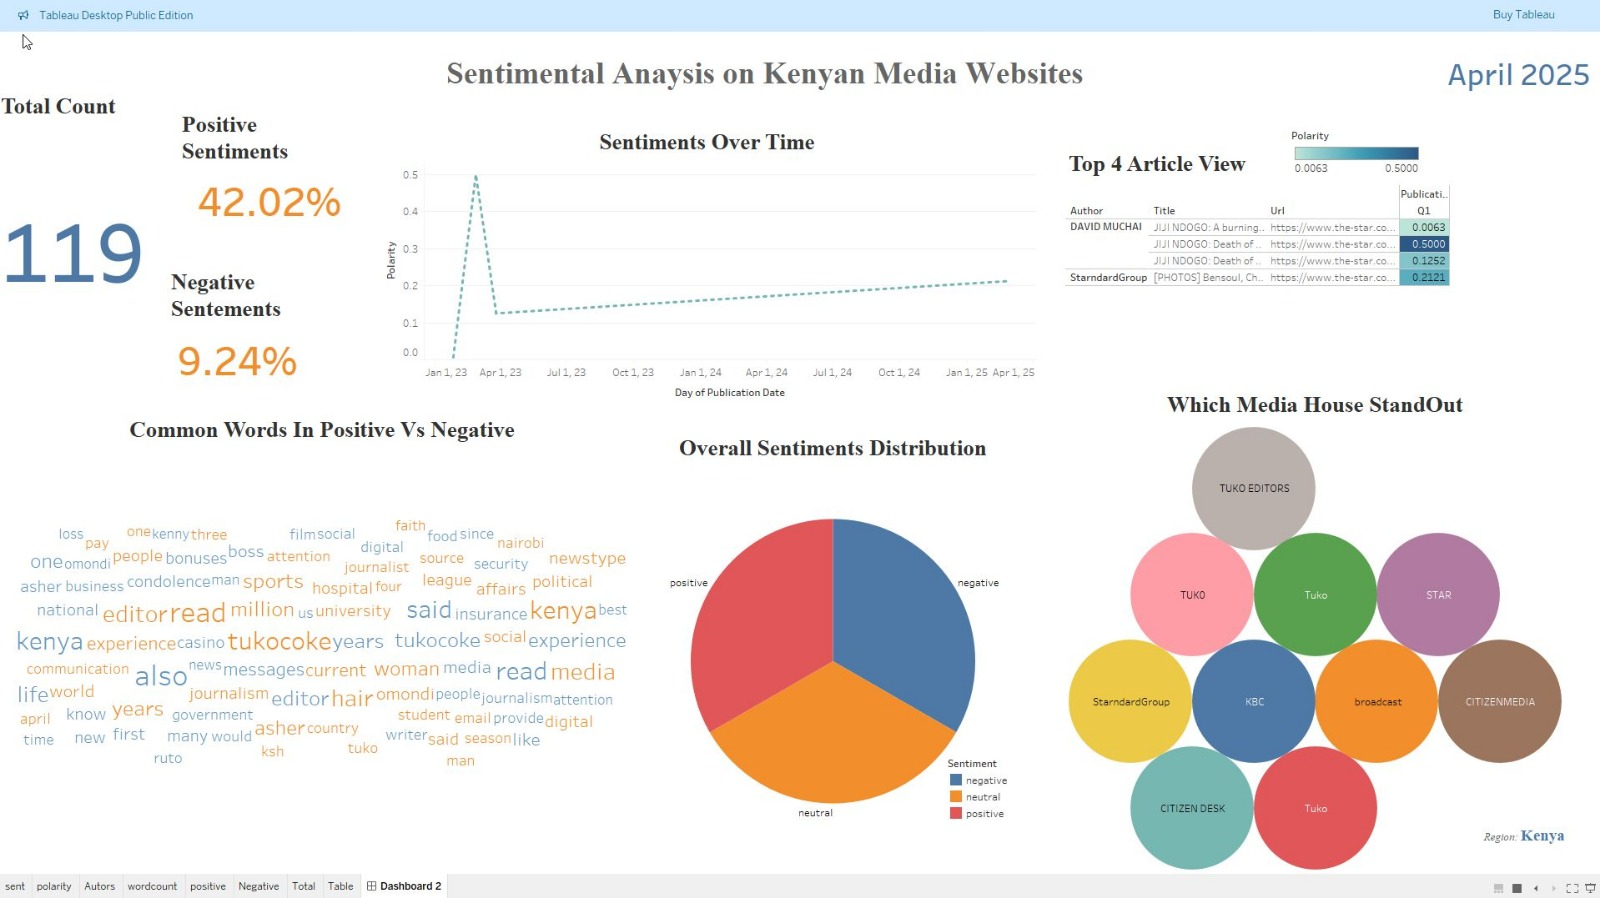

The dashboard page shown, as its layout file describes it:
{"tool":"tableau","page":{"name":"Dashboard 2","canvas":[1000,1000],"units":"permille","ordinal":0},"visuals":[{"type":"text","box":[889,19.8,105.1,59.3]},{"type":"worksheet","title":"positive","mark":"Automatic","box":[111.6,91.4,122.3,184]},{"type":"worksheet","title":"polarity","mark":"Automatic","rows":["polarity"],"cols":["publication_date"],"box":[235.8,112.4,410.9,332.1]},{"type":"legend","title":"Table","param":"[federated.0pil77701689qy1df3bfm1e03vqc].[sum:polarity:qk]","box":[806.2,114.6,81.7,88]},{"type":"worksheet","title":"Table","mark":"Square","rows":["author","title","url"],"cols":["publication_date"],"box":[664.9,137.7,333.3,289.4]},{"type":"worksheet","title":"Negative","mark":"Automatic","box":[104.5,277.8,130.1,145.7]},{"type":"worksheet","title":"Autors","mark":"Circle","box":[646.7,423.5,348.6,571.6]},{"type":"worksheet","title":"wordcount","mark":"Text","box":[10.1,453.1,382.4,542]},{"type":"worksheet","title":"sent","mark":"Pie","box":[391.3,475.3,257.7,500]},{"type":"legend","title":"sent","param":"[federated.0pil77701689qy1df3bfm1e03vqc].[none:sentiment:nk]","box":[591.5,860.5,82,90.1]},{"type":"text","box":[925.2,937,61.2,37]}]}

Visuals, with their boxes on the dashboard's canvas, which has no fixed pixel size, in thousandths of its width and height (x1, y1, x2, y2). These are canvas units, not pixel positions in the 1600x898 screenshot, which may show the page scaled, cropped or inside an application window:
text: l=889, t=20, r=994, b=79
"positive" worksheet: l=112, t=91, r=234, b=275
"polarity" worksheet: l=236, t=112, r=647, b=444
"Table" legend: l=806, t=115, r=888, b=203
"Table" worksheet (Square marks): l=665, t=138, r=998, b=427
"Negative" worksheet: l=104, t=278, r=235, b=424
"Autors" worksheet (Circle marks): l=647, t=424, r=995, b=995
"wordcount" worksheet (Text marks): l=10, t=453, r=392, b=995
"sent" worksheet (Pie marks): l=391, t=475, r=649, b=975
"sent" legend: l=592, t=860, r=674, b=951
text: l=925, t=937, r=986, b=974
